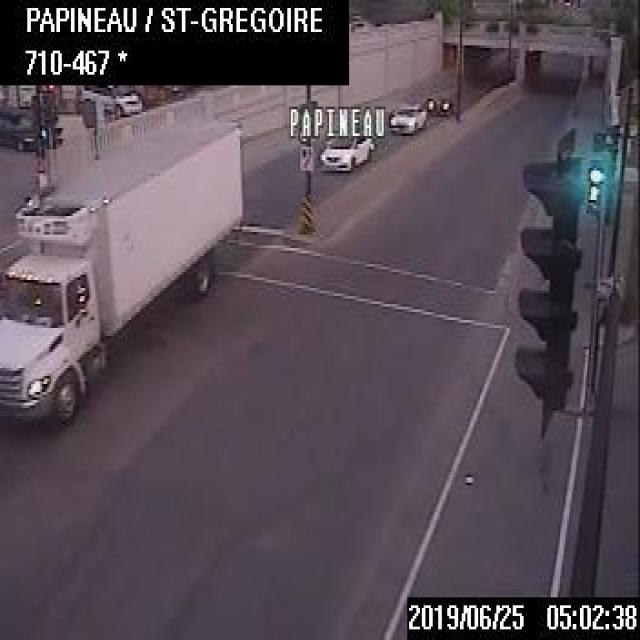vehicle: (0, 113, 244, 428), (316, 130, 374, 170), (75, 84, 144, 115), (0, 107, 38, 149), (387, 100, 426, 133), (425, 92, 452, 118)
